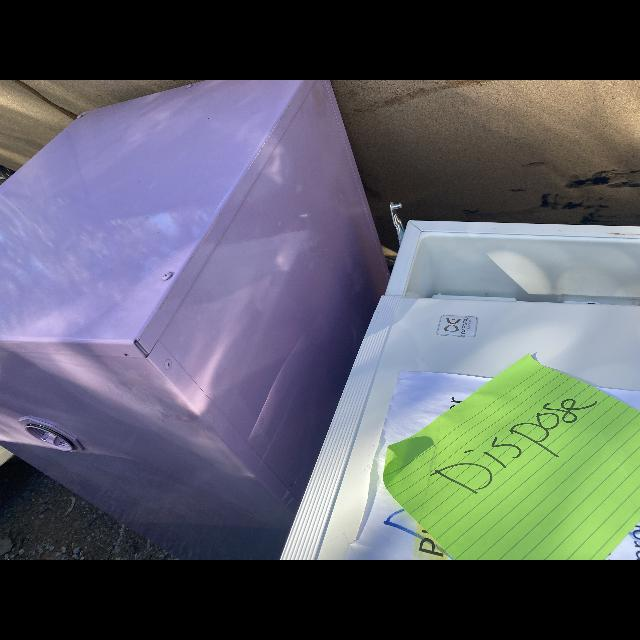Ferrous Metal: (0, 80, 390, 560), (316, 217, 640, 557), (391, 203, 404, 244)
